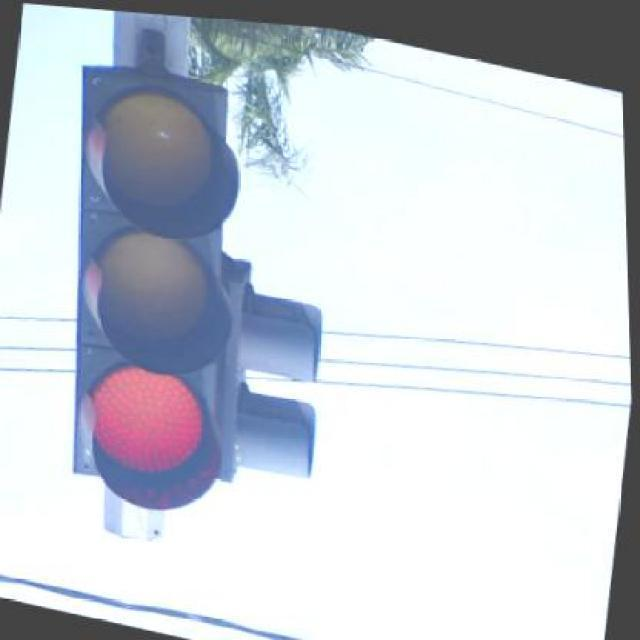red_light: (72, 14, 247, 536)
